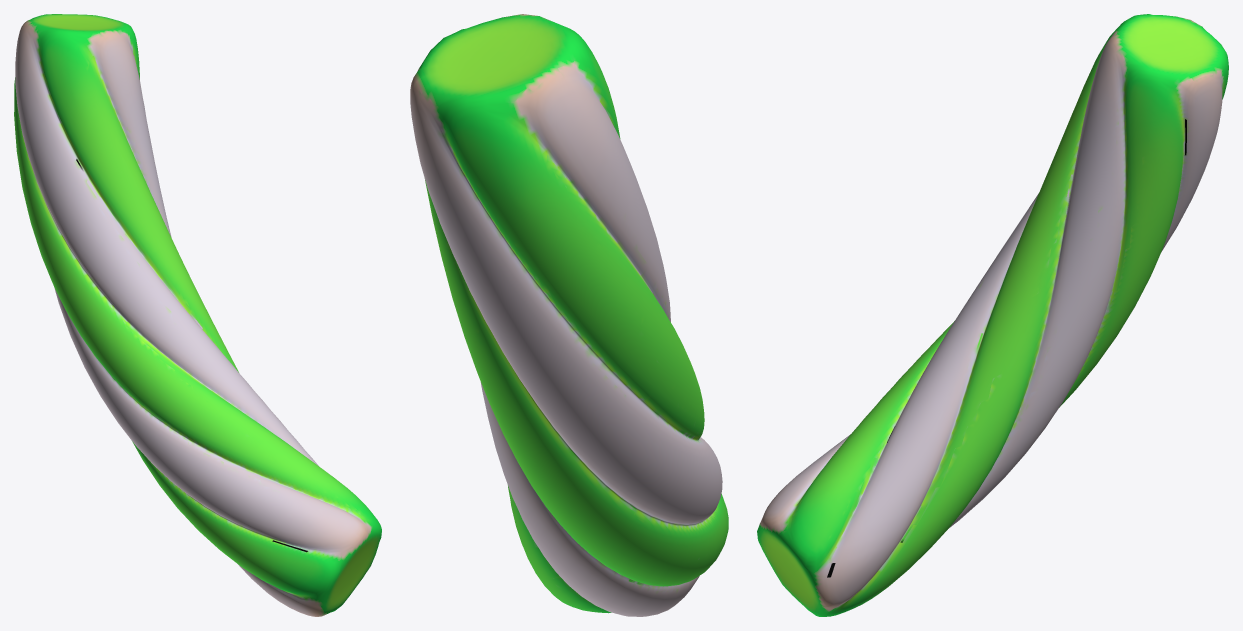
Rendered from twister_009.obj.
The picture shows the model from 3 angles, left to right: view 1: azimuth 30°, elevation 25°; view 2: azimuth 150°, elevation 25°; view 3: azimuth 270°, elevation 25°; orthographic projection. The views are drawn at different scales.
Parts seen in each view (by area): view 1: twister.009; view 2: twister.009; view 3: twister.009.
Boxes of the visible parts, x1,y1,x2,y2 form: twister.009: (14,14,381,616); twister.009: (410,14,728,616); twister.009: (757,14,1228,616).
Bounding box in the file's own units: 0.8476 × 1.99 × 1.59.
Materials: 1 (1 with a texture image).
